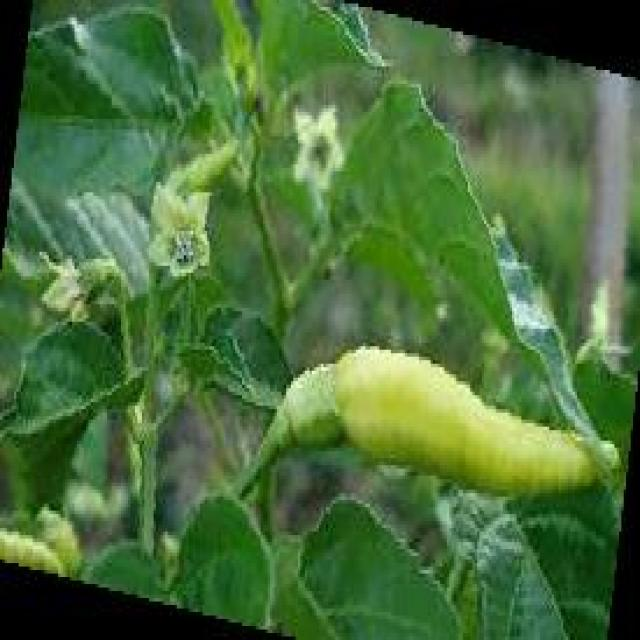Mosaic_virus: (274, 62, 592, 397), (229, 322, 628, 524), (144, 155, 242, 289)
